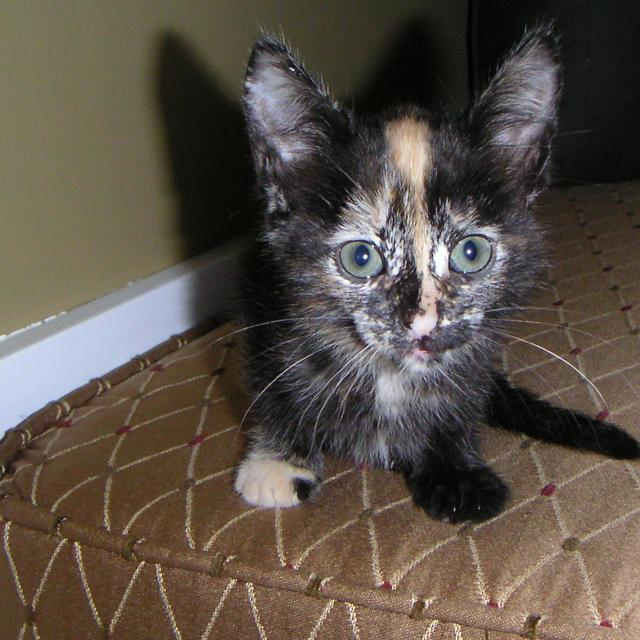animals: (262, 29, 544, 335)
